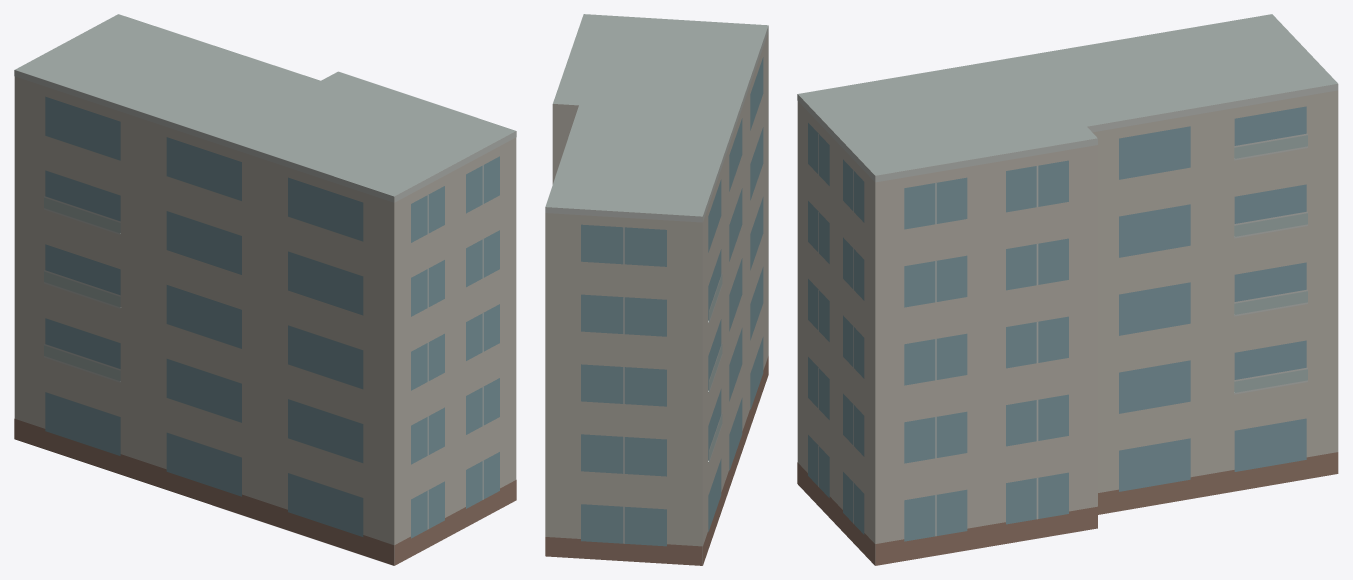
File: survey-upis-32685196.glb
3 renders of one model, left to right at view 1: azimuth 30°, elevation 25°; view 2: azimuth 150°, elevation 25°; view 3: azimuth 270°, elevation 25°, orthographic. The views are drawn at different scales.
Parts seen in each view (by area): view 1: survey-upis-32685196.tmp; view 2: survey-upis-32685196.tmp; view 3: survey-upis-32685196.tmp.
Part boxes in pixels (x1,y1,x2,y2): survey-upis-32685196.tmp: [14, 14, 516, 565]; survey-upis-32685196.tmp: [545, 14, 768, 565]; survey-upis-32685196.tmp: [797, 14, 1338, 565].
Size of the model in its own units: 12.73 by 14.3 by 17.98.
